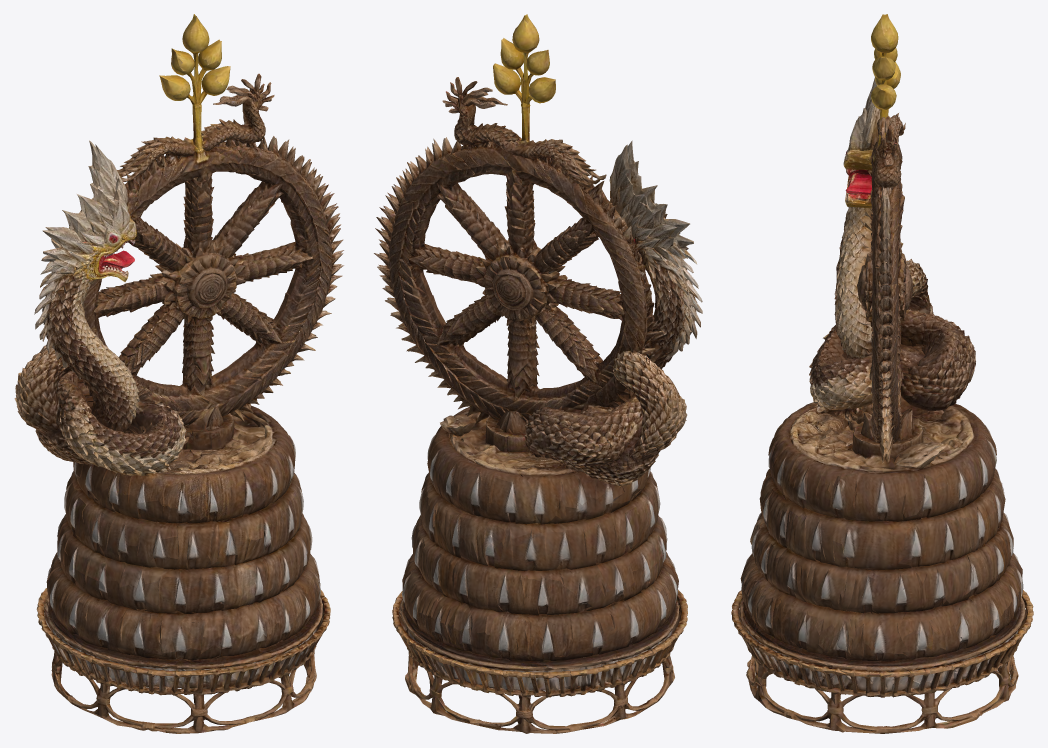
The model's file is w3hwheel.glb.
The picture shows the model from 3 angles, left to right: view 1: azimuth 30°, elevation 25°; view 2: azimuth 150°, elevation 25°; view 3: azimuth 270°, elevation 25°; orthographic projection.
Visible parts, largest first — view 1: output_unwrapped; view 2: output_unwrapped; view 3: output_unwrapped.
Part boxes in pixels (x1=…): output_unwrapped: x1=14, y1=14, x2=343, y2=733; output_unwrapped: x1=374, y1=14, x2=702, y2=733; output_unwrapped: x1=731, y1=14, x2=1033, y2=733.
Bounding box in the file's own units: 0.9091 × 1.8 × 0.7346.
1 material, 1 textured.
